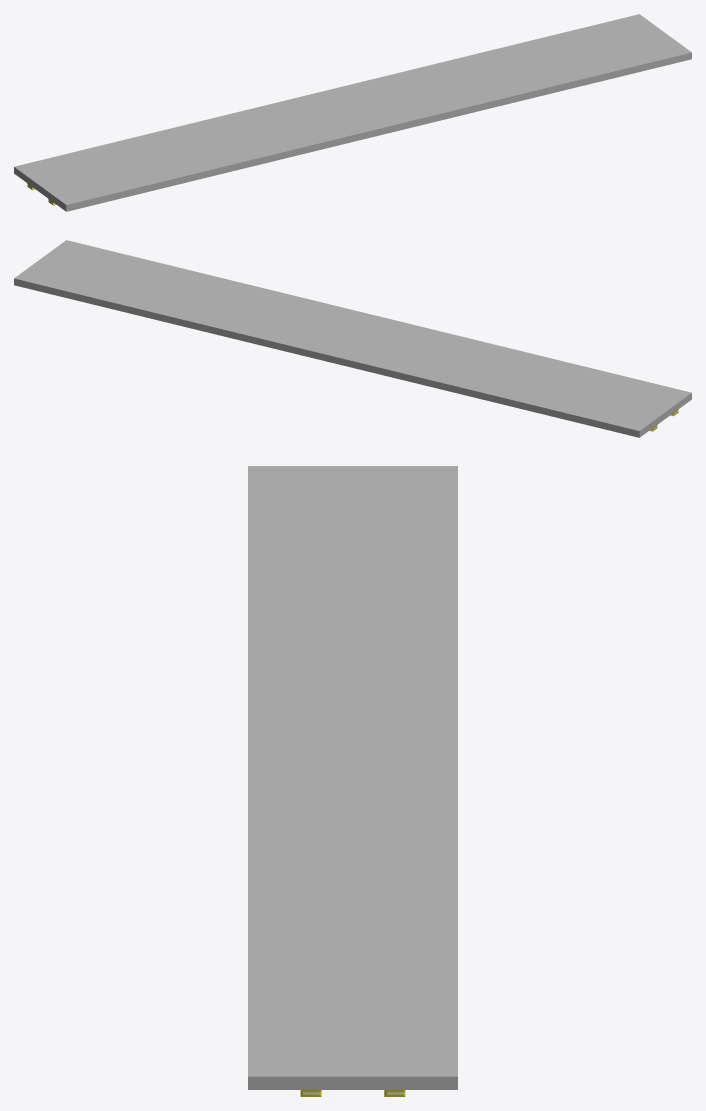
The model's file is 3rd Room rooftop.fbx.
3 views of the same model, one above another, from view 1: azimuth 30°, elevation 25°; view 2: azimuth 150°, elevation 25°; view 3: azimuth 270°, elevation 25° (orthographic). The views are drawn at different scales.
Visible parts, largest first — view 1: Cube.008; view 2: Cube.008; view 3: Cube.008.
Part boxes in pixels (x1,y1,x2,y2): Cube.008: (14, 14, 691, 211); Cube.008: (14, 240, 691, 437); Cube.008: (248, 466, 457, 1096).
Bounding box in the file's own units: 9639 × 150 × 1400.
